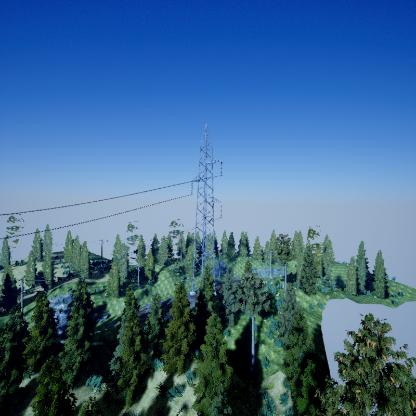tower: (189, 125, 224, 295)
